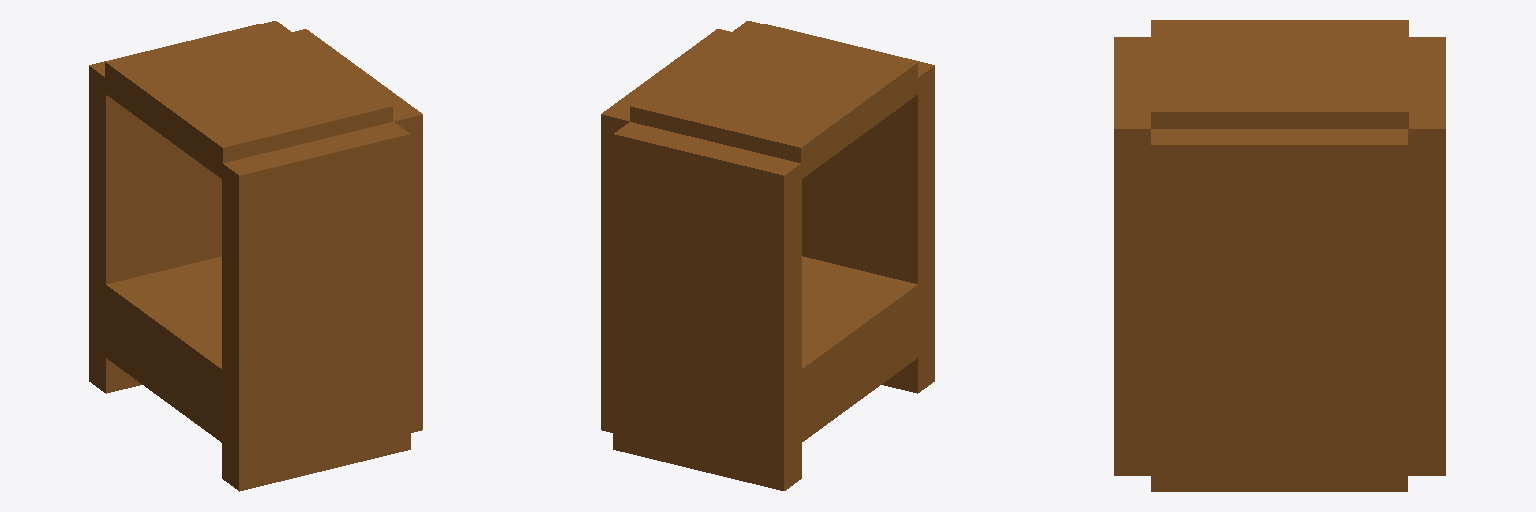
The robot description file, URDF, robot "dummy":
<?xml version="1.0"?>
<robot name="dummy">
  <link name="bottom_wall">
    <visual>
      <origin xyz="0.0 0.0 0.057275327844695745" rpy="0 0 0"/>
      <geometry>
        <mesh filename="bottom_wall.obj" scale="1 1 1"/>
      </geometry>
      <material name="brown">
        <color rgba="0.6 0.4 0.2 1.0"/>
      </material>
    </visual>
    <collision>
      <origin xyz="0.0 0.0 0.057275327844695745" rpy="0 0 0"/>
      <geometry>
        <mesh filename="bottom_wall.obj" scale="1 1 1"/>
      </geometry>
    </collision>
  </link>

  <link name="left_wall">
    <visual>
      <origin xyz="0.0 -0.1925445256043287 0.0" rpy="0 0 0"/>
      <geometry>
        <mesh filename="vertical_wall.obj" scale="1 1 1"/>
      </geometry>
      <material name="brown">
        <color rgba="0.6 0.4 0.2 1.0"/>
      </material>
    </visual>
    <collision>
      <origin xyz="0.0 -0.1925445256043287 0.0" rpy="0 0 0"/>
      <geometry>
        <mesh filename="vertical_wall.obj" scale="1 1 1"/>
      </geometry>
    </collision>
  </link>

  <link name="right_wall">
    <visual>
      <origin xyz="0.0 0.1925445256043287 0.0" rpy="0 0 0"/>
      <geometry>
        <mesh filename="vertical_wall.obj" scale="1 1 1"/>
      </geometry>
      <material name="brown">
        <color rgba="0.6 0.4 0.2 1.0"/>
      </material>
    </visual>
    <collision>
      <origin xyz="0.0 0.1925445256043287 0.0" rpy="0 0 0"/>
      <geometry>
        <mesh filename="vertical_wall.obj" scale="1 1 1"/>
      </geometry>
    </collision>
  </link>

  <link name="back_wall">
    <visual>
      <origin xyz="0.1656828093270495 0.0 0.0" rpy="0 0 0"/>
      <geometry>
        <mesh filename="back_wall.obj" scale="1 1 1"/>
      </geometry>
      <material name="brown">
        <color rgba="0.6 0.4 0.2 1.0"/>
      </material>
    </visual>
    <collision>
      <origin xyz="0.1656828093270495 0.0 0.0" rpy="0 0 0"/>
      <geometry>
        <mesh filename="back_wall.obj" scale="1 1 1"/>
      </geometry>
    </collision>
  </link>

  <link name="top_wall">
    <visual>
      <origin xyz="0.0 0.0 0.4760665463458242" rpy="0 0 0"/>
      <geometry>
        <mesh filename="top_wall.obj" scale="1 1 1"/>
      </geometry>
      <material name="brown">
        <color rgba="0.6 0.4 0.2 1.0"/>
      </material>
    </visual>
    <collision>
      <origin xyz="0.0 0.0 0.4760665463458242" rpy="0 0 0"/>
      <geometry>
        <mesh filename="top_wall.obj" scale="1 1 1"/>
      </geometry>
    </collision>
  </link>

  <joint name="left_wall_joint" type="fixed">
    <origin xyz="0 0 0" rpy="0 0 0"/>
    <parent link="bottom_wall"/>
    <child link="left_wall"/>
  </joint>

  <joint name="right_wall_joint" type="fixed">
    <origin xyz="0 0 0" rpy="0 0 0"/>
    <parent link="bottom_wall"/>
    <child link="right_wall"/>
  </joint>

  <joint name="back_wall_joint" type="fixed">
    <origin xyz="0 0 0" rpy="0 0 0"/>
    <parent link="bottom_wall"/>
    <child link="back_wall"/>
  </joint>

  <joint name="top_wall_joint" type="fixed">
    <origin xyz="0 0 0" rpy="0 0 0"/>
    <parent link="bottom_wall"/>
    <child link="top_wall"/>
  </joint>

</robot>

--- What the picture shows (computed from the rendered views, not written in the file) ---
3 views of the same robot in one strip: view 1: azimuth 30°, elevation 25°; view 2: azimuth 150°, elevation 25°; view 3: azimuth 270°, elevation 25° (orthographic).
Model dummy with 5 links and 4 joints (4 fixed), rooted at bottom_wall, posed every joint at zero.
Visible links, largest first — view 1: left_wall, top_wall, right_wall, bottom_wall, back_wall; view 2: right_wall, top_wall, left_wall, bottom_wall, back_wall; view 3: back_wall, top_wall, right_wall, left_wall.
Boxes of the visible links, <box> form: left_wall: <box>222,122,410,491</box>; top_wall: <box>105,21,392,178</box>; right_wall: <box>89,24,259,393</box>; bottom_wall: <box>105,256,222,442</box>; back_wall: <box>292,29,422,432</box>; right_wall: <box>613,122,801,490</box>; top_wall: <box>630,21,917,178</box>; left_wall: <box>764,24,934,393</box>; bottom_wall: <box>801,256,918,442</box>; back_wall: <box>601,29,730,432</box>; back_wall: <box>1151,129,1407,491</box>; top_wall: <box>1151,20,1408,128</box>; right_wall: <box>1408,37,1445,475</box>; left_wall: <box>1114,37,1150,475</box>.
Bounding box of the posed robot: 0.3344 × 0.4351 × 0.5269 m (x, y, z).
5 mesh visuals loaded from 4 distinct referenced files (4 OBJ).
